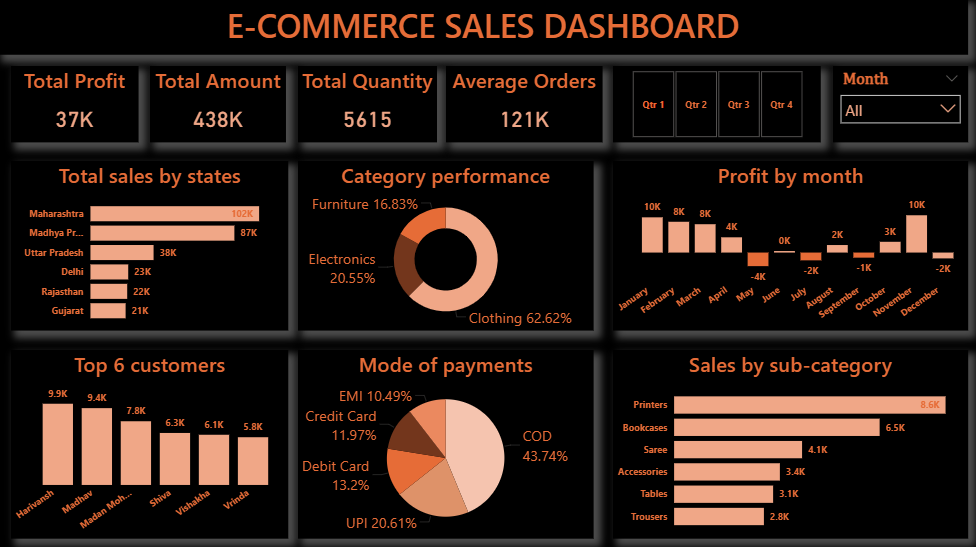

The dashboard page shown, as its layout file describes it:
{"tool":"powerbi","page":{"name":"E-commerce sales","canvas":[1280,720],"ordinal":0},"visuals":[{"type":"textbox","box":[0,0,1269.6,73.5],"z":0},{"type":"card","title":"Total Profit","fields":{"Values":["Sum(Details.Profit)"]},"box":[16.7,88.3,166.7,100],"z":1000},{"type":"card","title":"Total Amount","fields":{"Values":["Sum(Details.Amount)"]},"box":[198.4,88.2,177.8,99.9],"z":2000},{"type":"card","title":"Total Quantity","fields":{"Values":["Sum(Details.Quantity)"]},"box":[393.3,88.3,181.7,100],"z":3000},{"type":"card","title":"Average Orders","fields":{"Values":["Sum(Details.AOV)"]},"box":[586.7,88.3,205,100],"z":4000},{"type":"barChart","title":"Total sales by states","fields":{"Y":["Sum(Details.Amount)"],"Category":["Orders.State"]},"box":[16.2,211.6,360,232.2],"z":5000},{"type":"donutChart","title":"Category performance","fields":{"Category":["Details.Category"],"Y":["Sum(Details.Quantity)"]},"box":[393.8,211.6,398.2,232.2],"z":6000},{"type":"clusteredBarChart","title":"Sales by sub-category","fields":{"Y":["Sum(Details.Profit)"],"Category":["Details.Sub-Category"]},"box":[792,454,477.6,252.7],"z":7000},{"type":"columnChart","title":"Top 6 customers","fields":{"Category":["Orders.CustomerName"],"Y":["Sum(Details.Amount)"]},"box":[16.2,454,360,252.7],"z":8000},{"type":"pieChart","title":"Mode of payments","fields":{"Category":["Details.PaymentMode"],"Y":["Sum(Details.Quantity)"]},"box":[393.8,454,398.2,252.7],"z":9000},{"type":"lineChart","title":"Profit by month","fields":{"Category":["Orders.Order Date.Variation.Date Hierarchy.Month"],"Y":["Sum(Details.Profit)"]},"box":[805.2,211.6,464.3,232.2],"z":10000},{"type":"slicer","fields":{"Values":["Orders.Order Date.Variation.Date Hierarchy.Quarter"]},"box":[805.2,88.2,271.8,99.9],"z":11000},{"type":"slicer","fields":{"Values":["Orders.Order Date.Variation.Date Hierarchy.Month"]},"box":[1093.3,88.3,176.7,100],"z":13000}]}

Visuals, with their boxes in screenshot pixels (x1, y1, x2, y2), scaled from the page's 1280x720 canvas onto the 976x547 screenshot:
textbox: x1=0, y1=0, x2=968, y2=56
"Total Profit" card: x1=13, y1=67, x2=140, y2=143
"Total Amount" card: x1=151, y1=67, x2=287, y2=143
"Total Quantity" card: x1=300, y1=67, x2=438, y2=143
"Average Orders" card: x1=447, y1=67, x2=604, y2=143
"Total sales by states" barChart: x1=12, y1=161, x2=287, y2=337
"Category performance" donutChart: x1=300, y1=161, x2=604, y2=337
"Sales by sub-category" clusteredBarChart: x1=604, y1=345, x2=968, y2=537
"Top 6 customers" columnChart: x1=12, y1=345, x2=287, y2=537
"Mode of payments" pieChart: x1=300, y1=345, x2=604, y2=537
"Profit by month" lineChart: x1=614, y1=161, x2=968, y2=337
slicer - Orders.Order Date.Variation.Date Hierarchy.Quarter: x1=614, y1=67, x2=821, y2=143
slicer - Orders.Order Date.Variation.Date Hierarchy.Month: x1=834, y1=67, x2=968, y2=143
